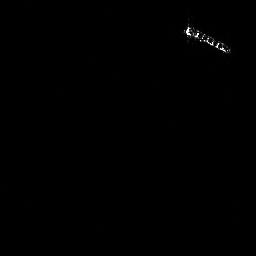ship: (181, 21, 234, 57)
